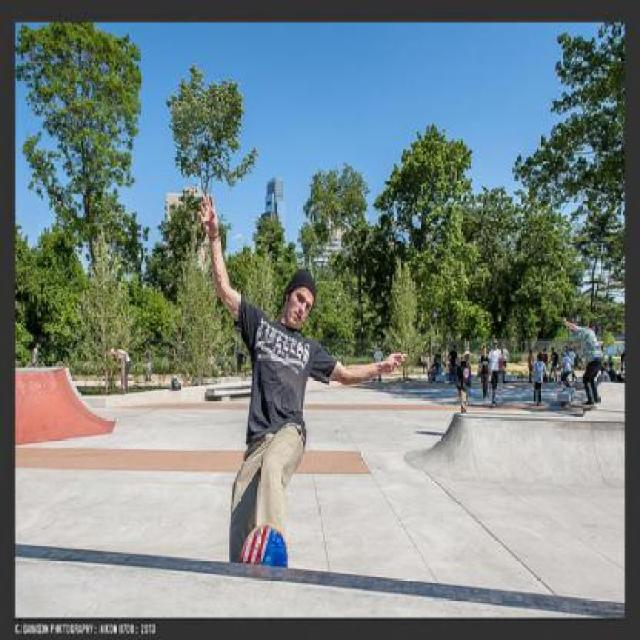Person: (196, 193, 410, 567), (26, 342, 560, 392), (561, 316, 604, 406), (110, 347, 132, 395), (456, 350, 472, 413), (532, 348, 550, 404), (476, 344, 492, 404), (488, 338, 502, 405), (556, 352, 572, 388), (446, 344, 460, 384), (142, 342, 153, 386), (429, 356, 443, 384), (501, 343, 510, 382), (568, 348, 577, 382)
